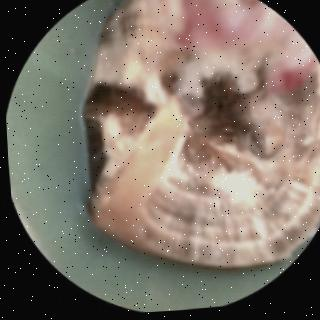stone: (83, 0, 320, 269)
